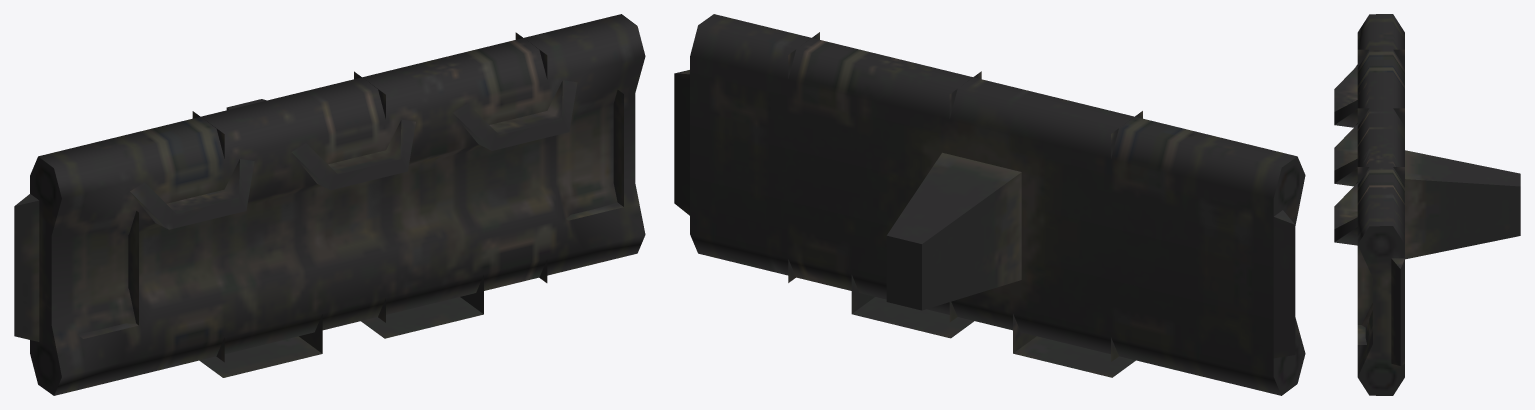
The picture shows the model from 3 angles, left to right: view 1: azimuth 30°, elevation 25°; view 2: azimuth 150°, elevation 25°; view 3: azimuth 270°, elevation 25°; orthographic projection. The views are drawn at different scales.
Visible parts, largest first — view 1: set_0_group_0; view 2: set_0_group_0; view 3: set_0_group_0.
Part boxes in pixels (x1,y1,x2,y2): set_0_group_0: (14, 14, 645, 395); set_0_group_0: (674, 14, 1305, 395); set_0_group_0: (1334, 14, 1520, 395).
Size of the model in its own units: 0.5 by 0.1875 by 0.1745.
1 material, 1 textured.
